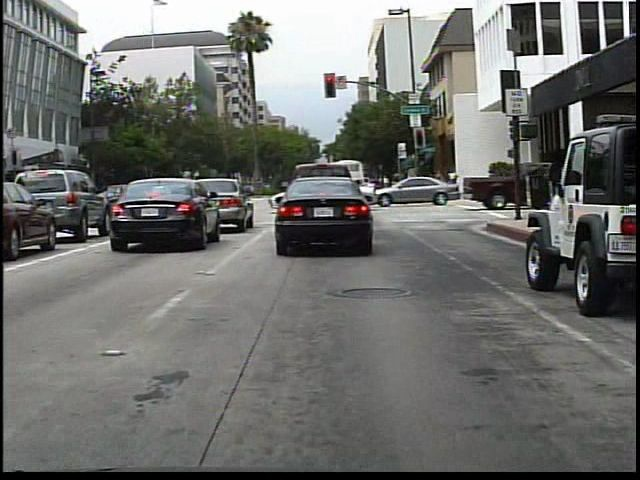person: (446, 167, 463, 198), (429, 165, 445, 197)
